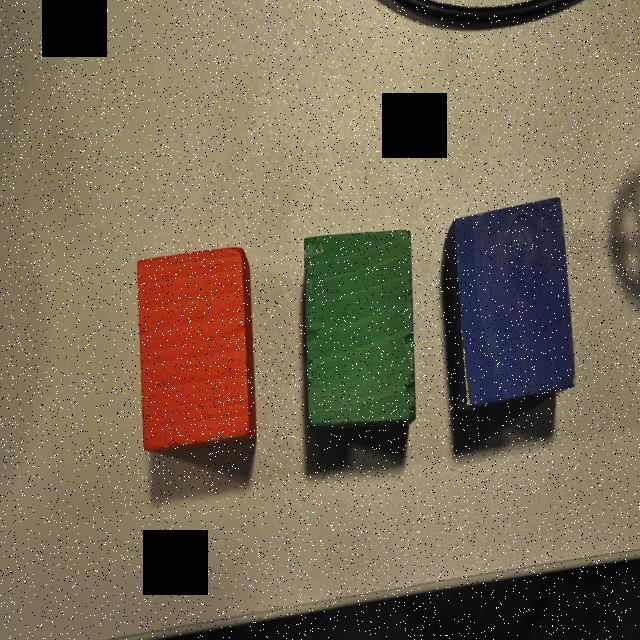bluecube: (444, 194, 575, 414)
green cube: (301, 230, 416, 440)
red cube: (136, 249, 253, 455)
